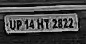1: (22, 18, 30, 32)
2: (67, 16, 75, 30), (62, 17, 69, 30), (51, 17, 57, 30)
4: (29, 17, 37, 31)
8: (57, 17, 63, 30)
H: (36, 17, 45, 30)
P: (15, 17, 23, 32)
T: (43, 18, 52, 30)
U: (9, 19, 17, 31)
